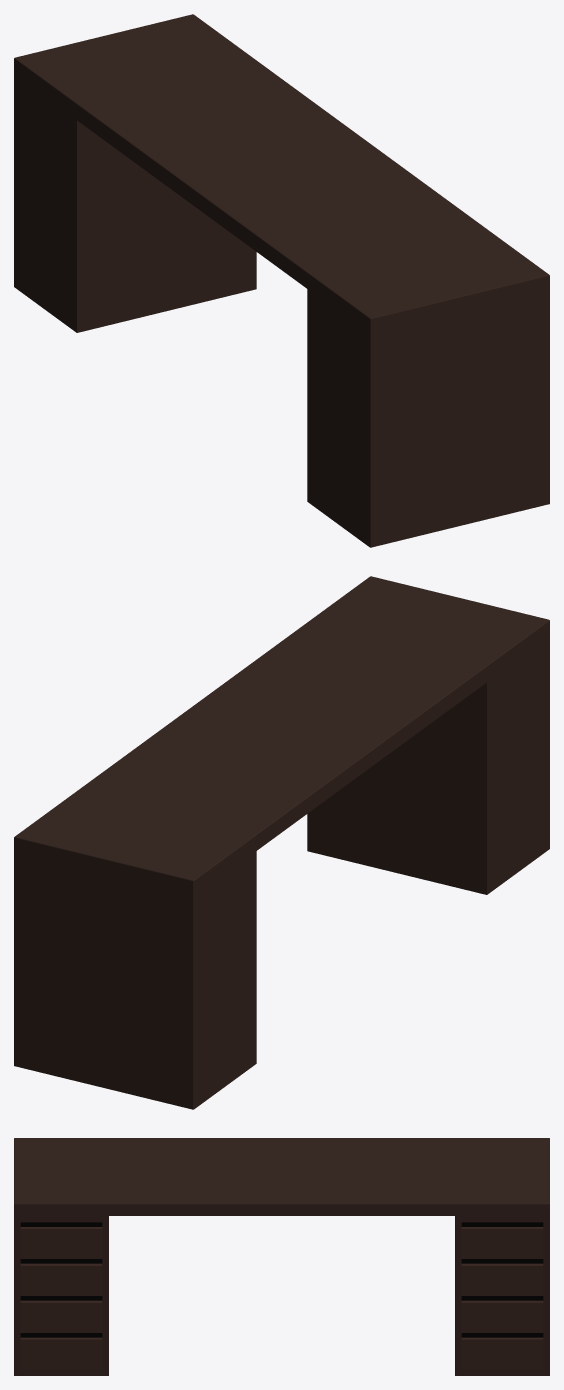
The model's file is desk.glb.
3 views of the same model, one above another, from view 1: azimuth 30°, elevation 25°; view 2: azimuth 150°, elevation 25°; view 3: azimuth 270°, elevation 25° (orthographic). The views are drawn at different scales.
Visible parts, largest first — view 1: desk; view 2: desk; view 3: desk.
Boxes of the visible parts, left/top/right/bottom form: desk: left=14, top=14, right=549, bottom=547; desk: left=14, top=576, right=549, bottom=1109; desk: left=14, top=1138, right=549, bottom=1375.
Bounding box in the file's own units: 0.5842 × 0.7112 × 2.01.
